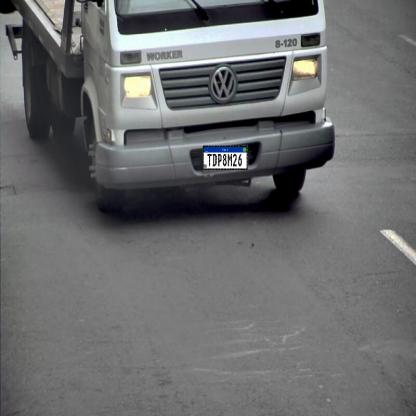PlacaM: (203, 145, 247, 170)
